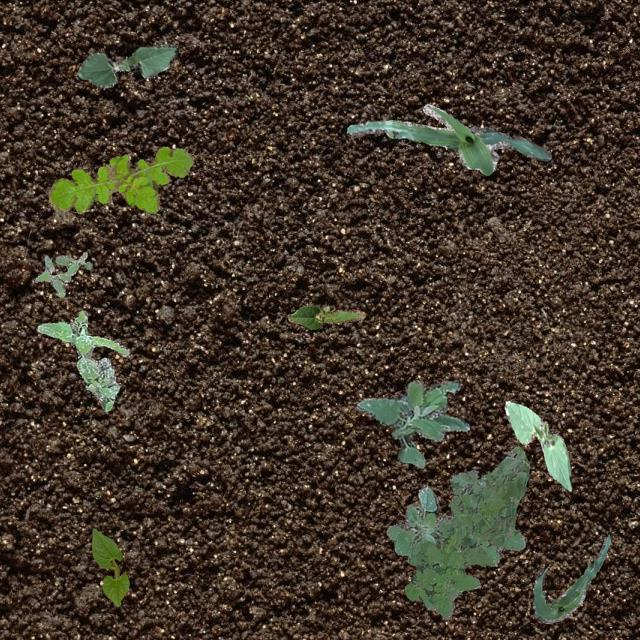crop: (346, 102, 550, 174), (532, 534, 610, 622), (504, 400, 570, 490), (76, 42, 176, 86), (90, 528, 128, 606), (286, 304, 364, 328)
weed: (404, 446, 528, 618), (356, 378, 468, 466), (48, 146, 192, 212), (36, 310, 128, 410), (386, 486, 452, 554), (32, 250, 92, 296)
